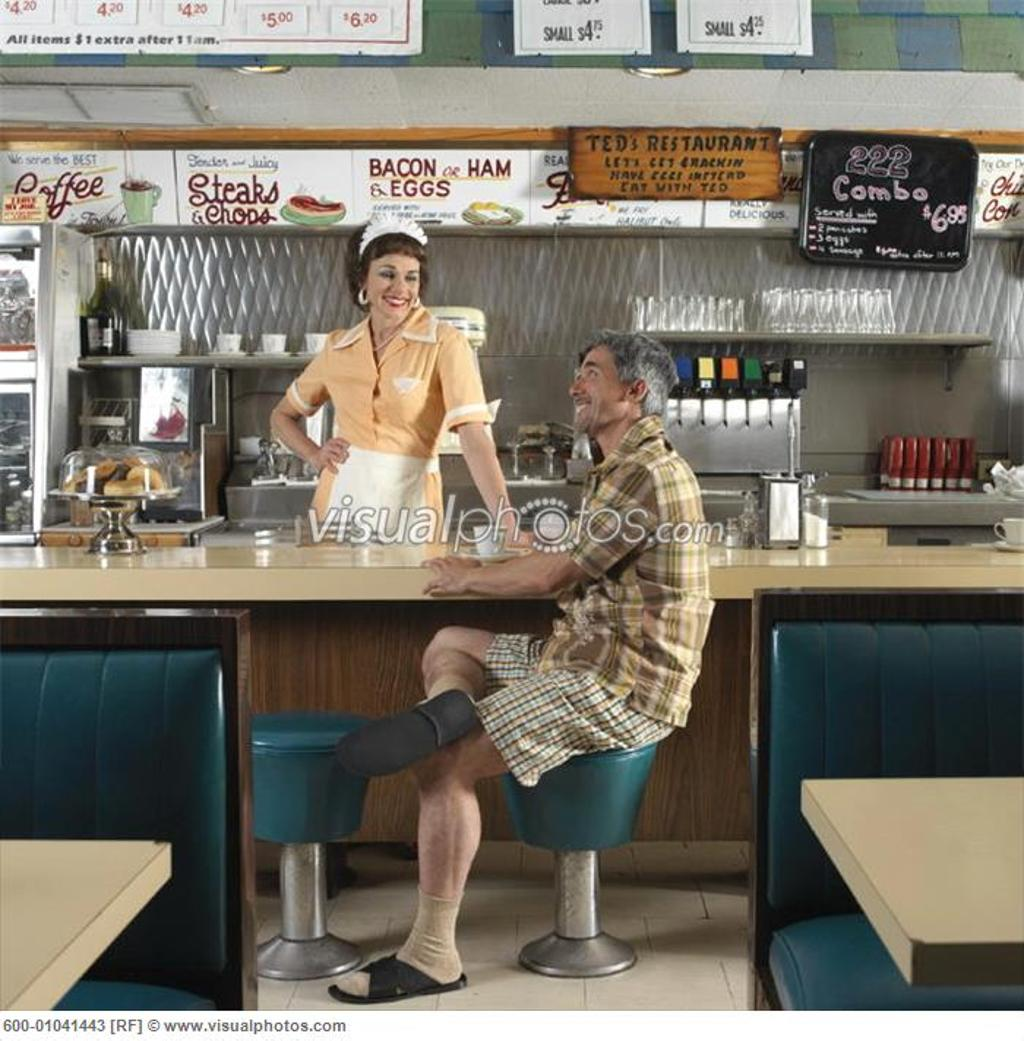face: (567, 341, 628, 430), (370, 248, 425, 321)
